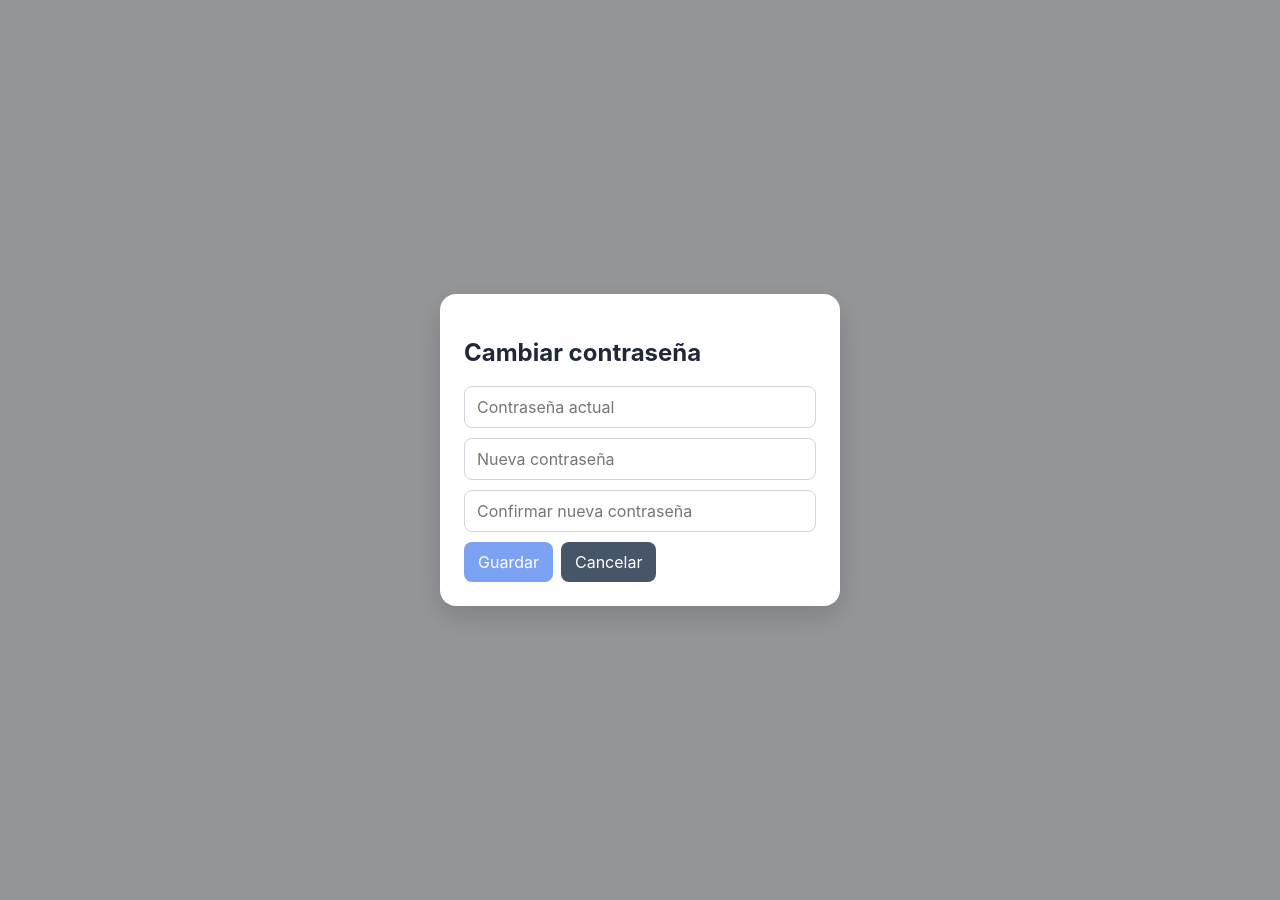
Test: ChangePasswordModal › shows error on API failure
Type "old" into the password field with placeholder "Contraseña actual" at (640, 407), box [464, 386, 816, 428]
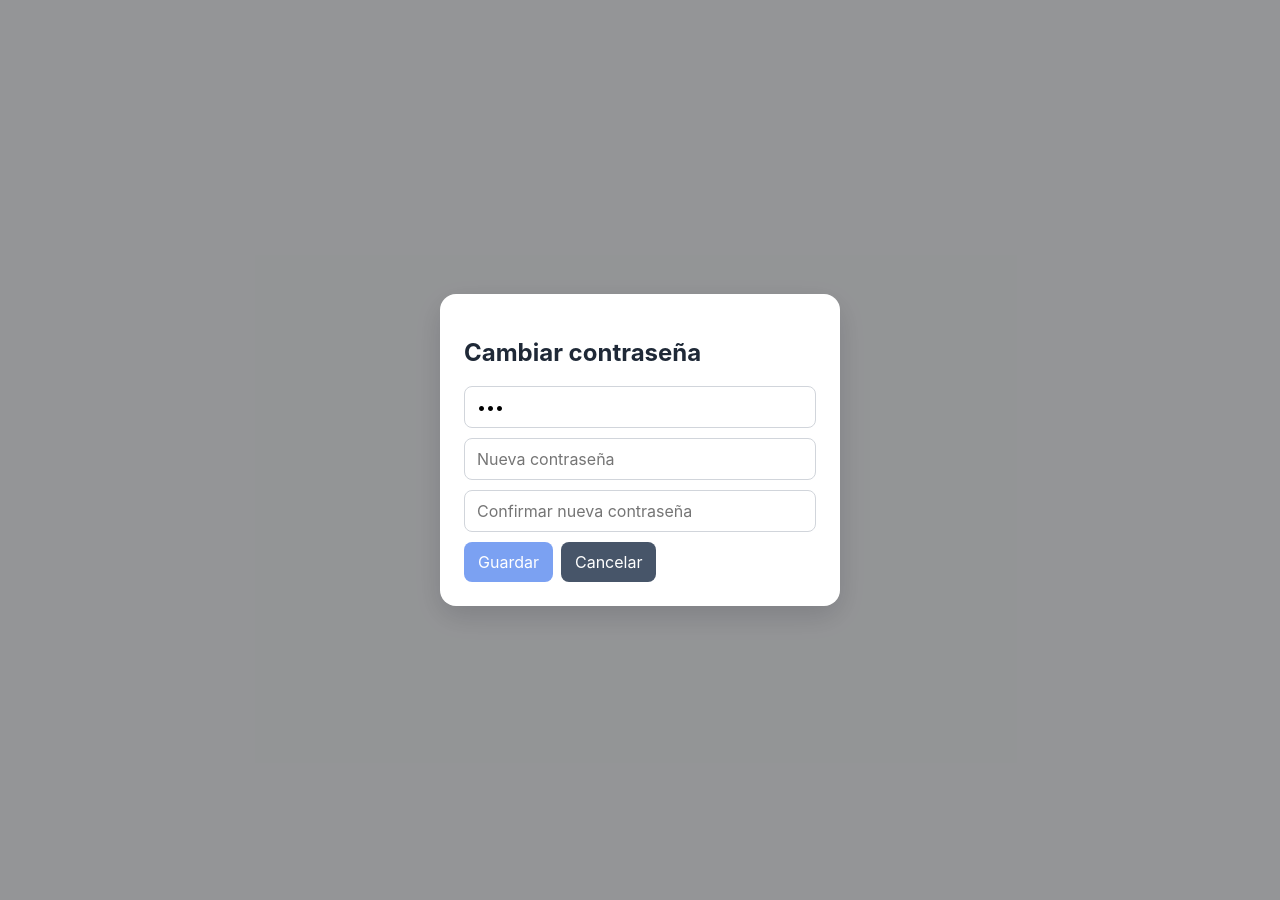
Type "newpass123" into the password field with placeholder "Nueva contraseña" at (640, 459), box [464, 438, 816, 480]
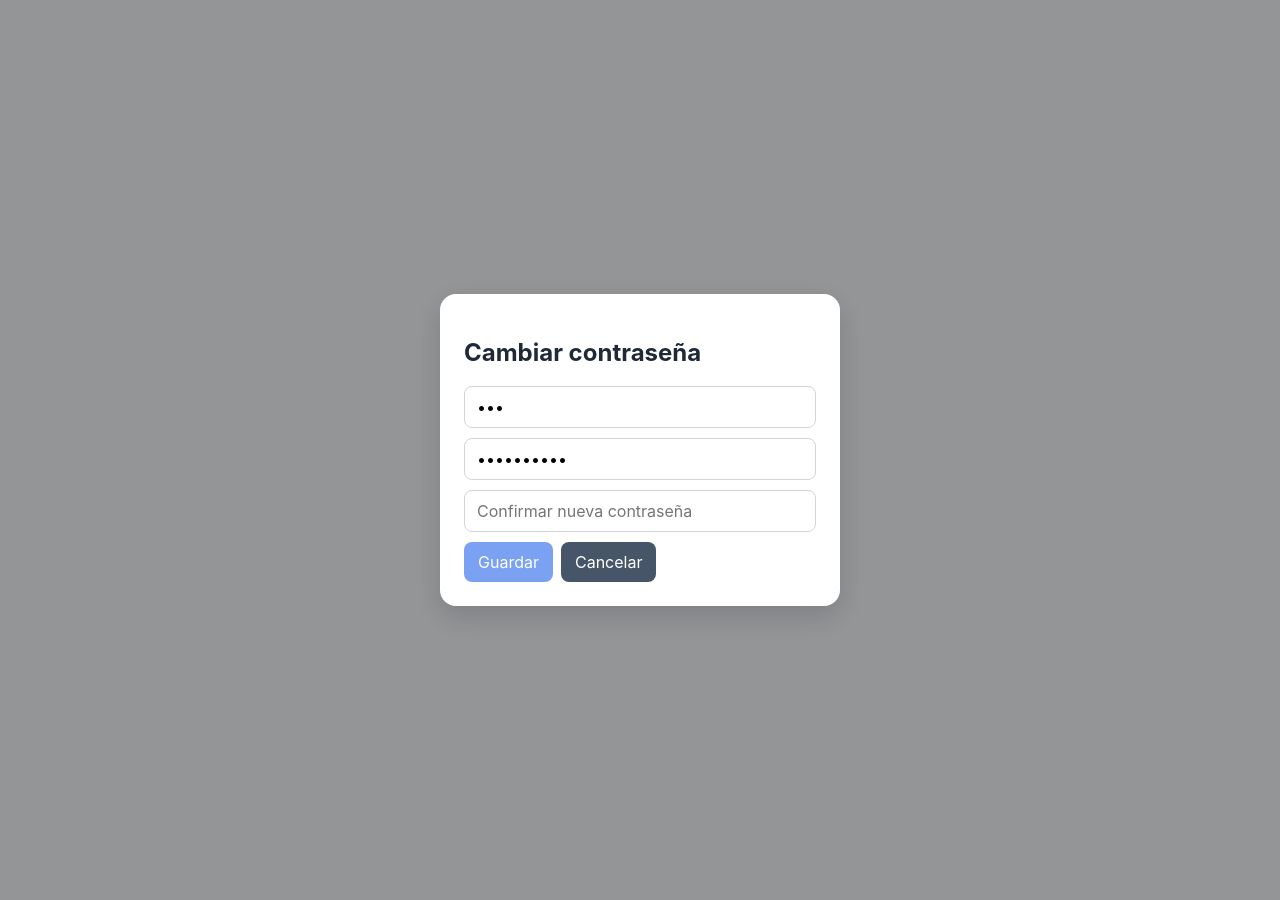
Type "newpass123" into the password field with placeholder "Confirmar nueva contraseña" at (640, 511), box [464, 490, 816, 532]
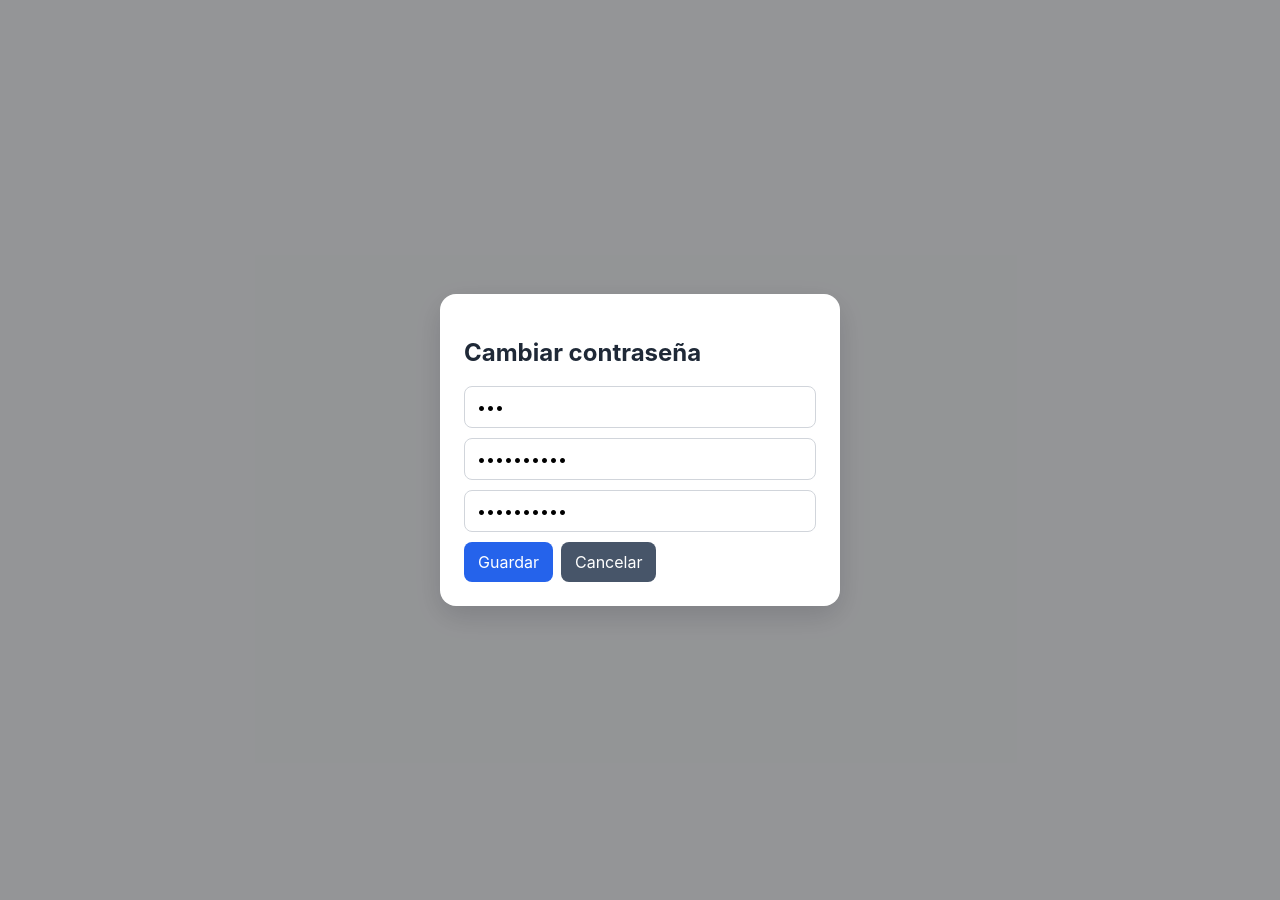
Click the button "Guardar" at (508, 562), box [464, 542, 553, 582]
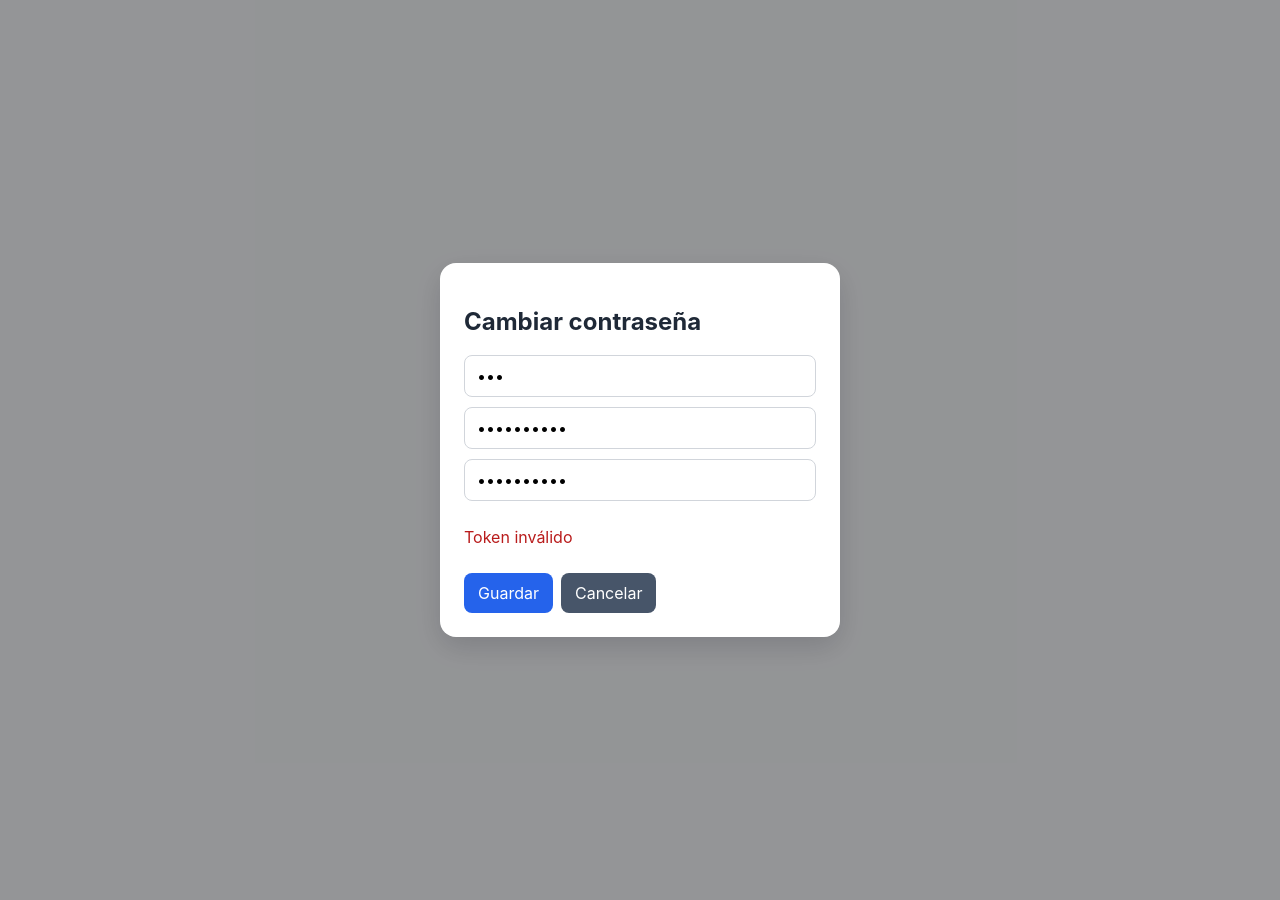
Check: the text "Token inválido" is shown, box [464, 527, 572, 547]
